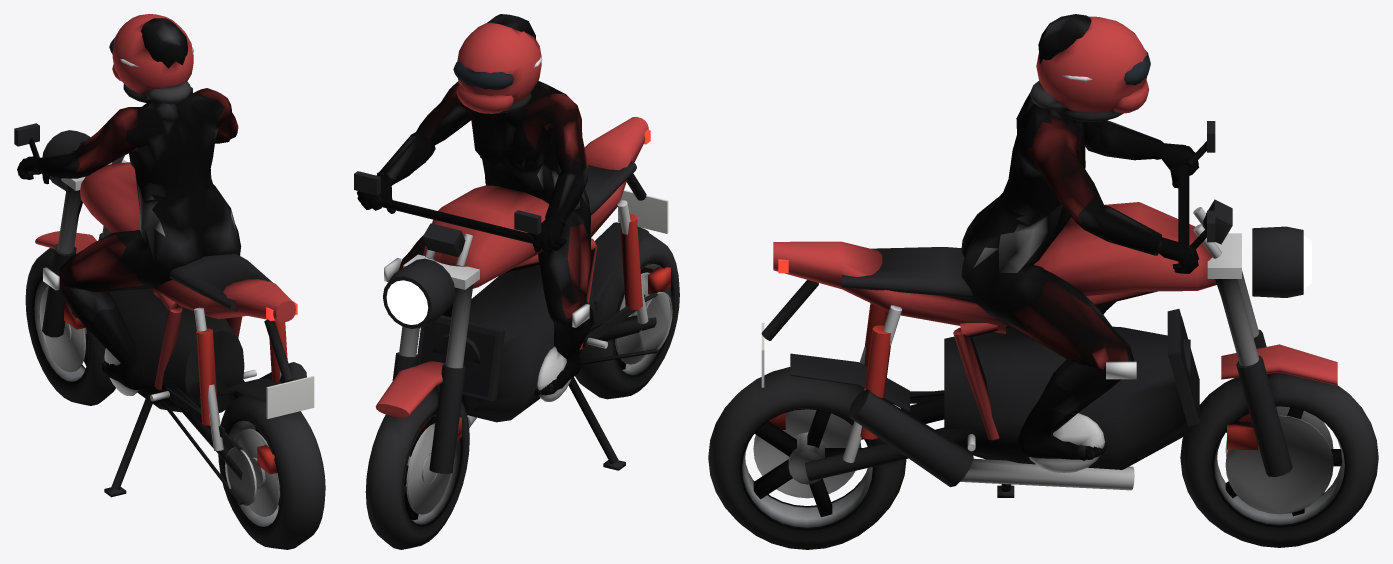
Rendered from t_moto.glb.
The picture shows the model from 3 angles, left to right: view 1: azimuth 30°, elevation 25°; view 2: azimuth 150°, elevation 25°; view 3: azimuth 270°, elevation 25°; orthographic projection. The views are drawn at different scales.
Visible parts, largest first — view 1: Body, Rider, Wheel_R, Wheel_F, RiderGear, Stand; view 2: Body, Rider, Wheel_F, Wheel_R, RiderGear, Stand; view 3: Body, Rider, Wheel_F, Wheel_R, RiderGear.
Part boxes in pixels (box(x1,y1,x2,y2)): Body: box(14, 87, 314, 505); Rider: box(17, 18, 241, 390); Wheel_R: box(218, 394, 325, 549); Wheel_F: box(25, 248, 115, 405); RiderGear: box(43, 14, 239, 290); Stand: box(104, 394, 153, 497); Body: box(354, 117, 672, 473); Rider: box(357, 14, 593, 395); Wheel_F: box(365, 384, 469, 549); Wheel_R: box(575, 233, 679, 399); RiderGear: box(384, 22, 589, 327); Stand: box(568, 377, 625, 470); Body: box(761, 121, 1337, 490); Rider: box(961, 14, 1199, 460); Wheel_F: box(1180, 372, 1378, 547); Wheel_R: box(708, 367, 906, 549); RiderGear: box(1030, 16, 1150, 379).
Bounding box in the file's own units: 0.7973 × 1.71 × 1.96.
